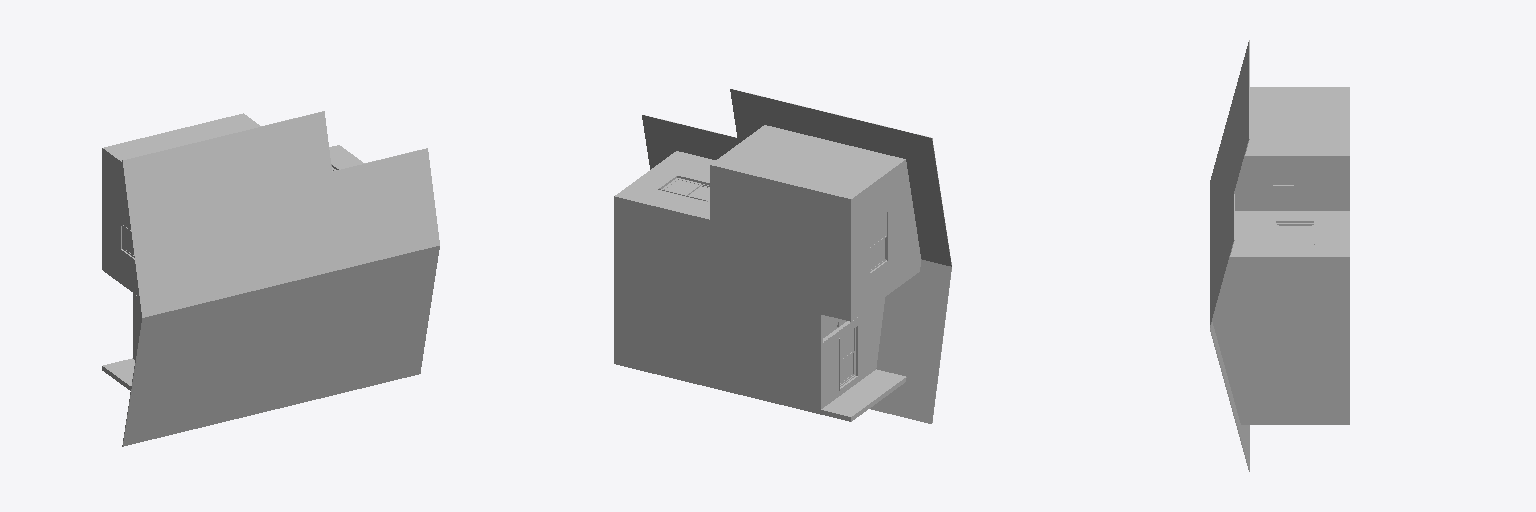
3 views of the same model, side by side, from view 1: azimuth 30°, elevation 25°; view 2: azimuth 150°, elevation 25°; view 3: azimuth 270°, elevation 25° (orthographic).
Visible parts, largest first — view 1: Telhados__Telhado básico__fibrocimento 2 cm_growarq__[number redacted], Paredes__Parede básica__parede externa 15cm acabamento 1_growarq, Janelas__janela vidro múltiplas_growarq__janela 2 Folhas - 160 x; view 2: Pisos__Piso__laje de concreto usinado 10cm_growarq__[number redacted], Paredes__Parede básica__parede externa 15cm acabamento 1_growarq, Telhados__Telhado básico__fibrocimento 2 cm_growarq__[number redacted], Janelas__janela vidro múltiplas_growarq__janela 2 Folhas - 160 x; view 3: Paredes__Parede básica__parede externa 15cm acabamento 1_growarq, Telhados__Telhado básico__fibrocimento 2 cm_growarq__[number redacted], Janelas__janela vidro múltiplas_growarq__janela 2 Folhas - 160 x.
Part boxes in pixels (bbox=[...]): Telhados__Telhado básico__fibrocimento 2 cm_growarq__[number redacted]: bbox=[122, 111, 439, 446]; Paredes__Parede básica__parede externa 15cm acabamento 1_growarq: bbox=[102, 113, 363, 390]; Janelas__janela vidro múltiplas_growarq__janela 2 Folhas - 160 x: bbox=[120, 163, 335, 259]; Pisos__Piso__laje de concreto usinado 10cm_growarq__[number redacted]: bbox=[615, 166, 850, 413]; Paredes__Parede básica__parede externa 15cm acabamento 1_growarq: bbox=[614, 125, 920, 421]; Telhados__Telhado básico__fibrocimento 2 cm_growarq__[number redacted]: bbox=[642, 89, 951, 423]; Janelas__janela vidro múltiplas_growarq__janela 2 Folhas - 160 x: bbox=[657, 178, 887, 390]; Paredes__Parede básica__parede externa 15cm acabamento 1_growarq: bbox=[1212, 87, 1349, 424]; Telhados__Telhado básico__fibrocimento 2 cm_growarq__[number redacted]: bbox=[1210, 40, 1249, 471]; Janelas__janela vidro múltiplas_growarq__janela 2 Folhas - 160 x: bbox=[1276, 220, 1314, 244].
Size of the model in its own units: 9.8 by 9 by 4.02.